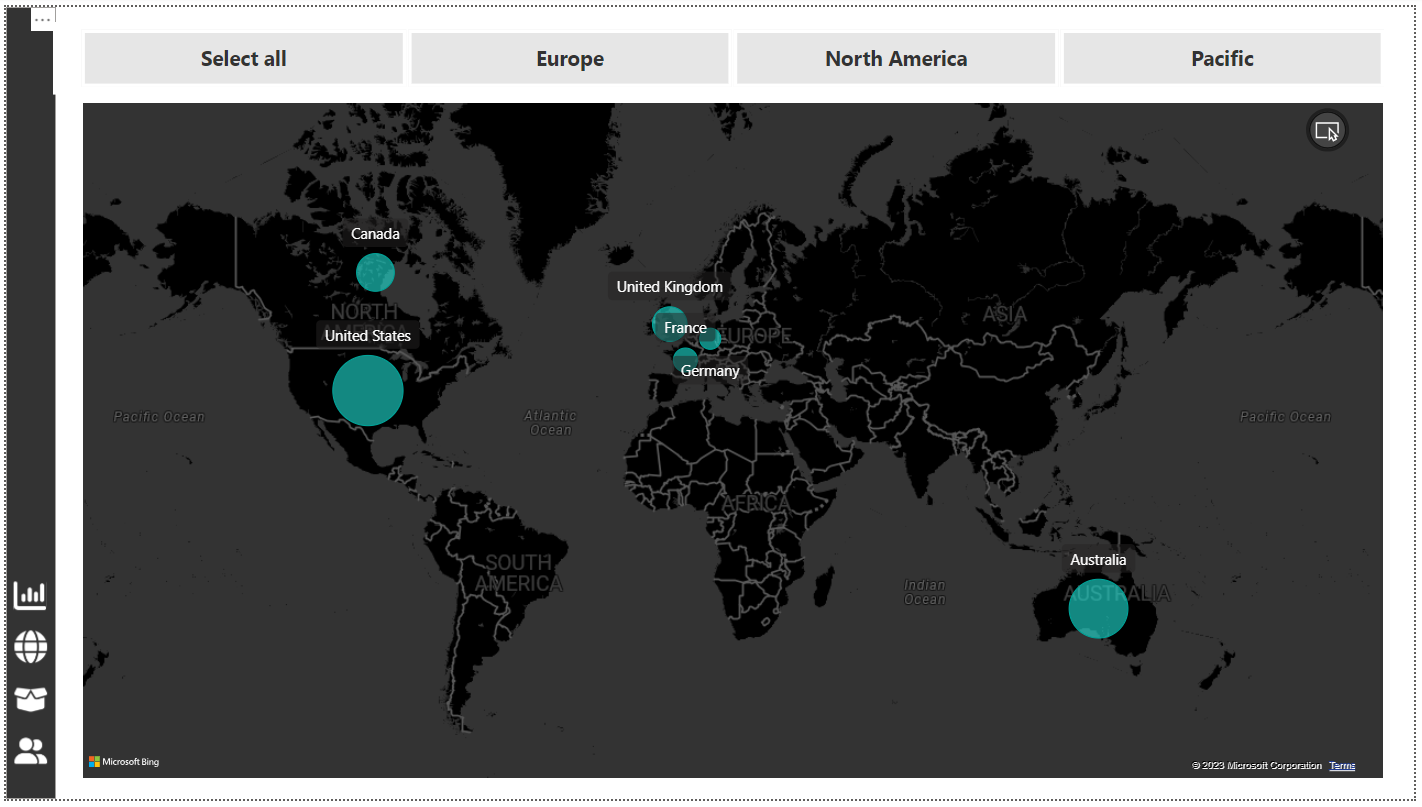

Layout of this report page (visuals, bound fields, positions):
{"tool":"powerbi","page":{"name":"Map","canvas":[1280,720],"ordinal":1},"visuals":[{"type":"shape","box":[0,0,45,720],"z":0},{"type":"actionButton","box":[2.5,516.7,45.6,37.8],"z":0,"group":"g1"},{"type":"actionButton","box":[3.3,563.4,45.6,37.8],"z":1000,"group":"g1"},{"type":"map","fields":{"Category":["Territory Lookup.Country"],"Size":["Measure Table.Total Orders"]},"box":[65.6,82.5,1191.3,622.8],"z":1000},{"type":"slicer","fields":{"Values":["Territory Lookup.Continent"]},"box":[43,13.6,1234.3,65.6],"z":2000},{"type":"actionButton","box":[3.3,611.1,45.6,37.8],"z":2000,"group":"g1"},{"type":"actionButton","box":[3.3,657.8,45.6,37.8],"z":3000,"group":"g1"},{"type":"group","id":"g1","title":"Navigation Buttons","box":[2.5,516.7,46.4,178.9],"z":3000}]}

Visuals, with their boxes on the page's 1280x720 design canvas (x1, y1, x2, y2). These are canvas units, not pixel positions in the 1422x807 screenshot, which may show the page scaled, cropped or inside an application window:
shape: x1=0 y1=0 x2=45 y2=720
actionButton: x1=2 y1=517 x2=48 y2=554
actionButton: x1=3 y1=563 x2=49 y2=601
map - Territory Lookup.Country x Measure Table.Total Orders: x1=66 y1=82 x2=1257 y2=705
slicer - Territory Lookup.Continent: x1=43 y1=14 x2=1277 y2=79
actionButton: x1=3 y1=611 x2=49 y2=649
actionButton: x1=3 y1=658 x2=49 y2=696
"Navigation Buttons" group: x1=2 y1=517 x2=49 y2=696
